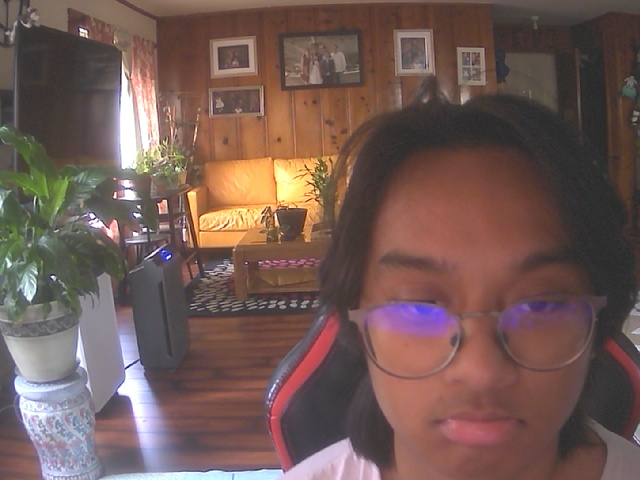sad: (342, 118, 626, 478)
